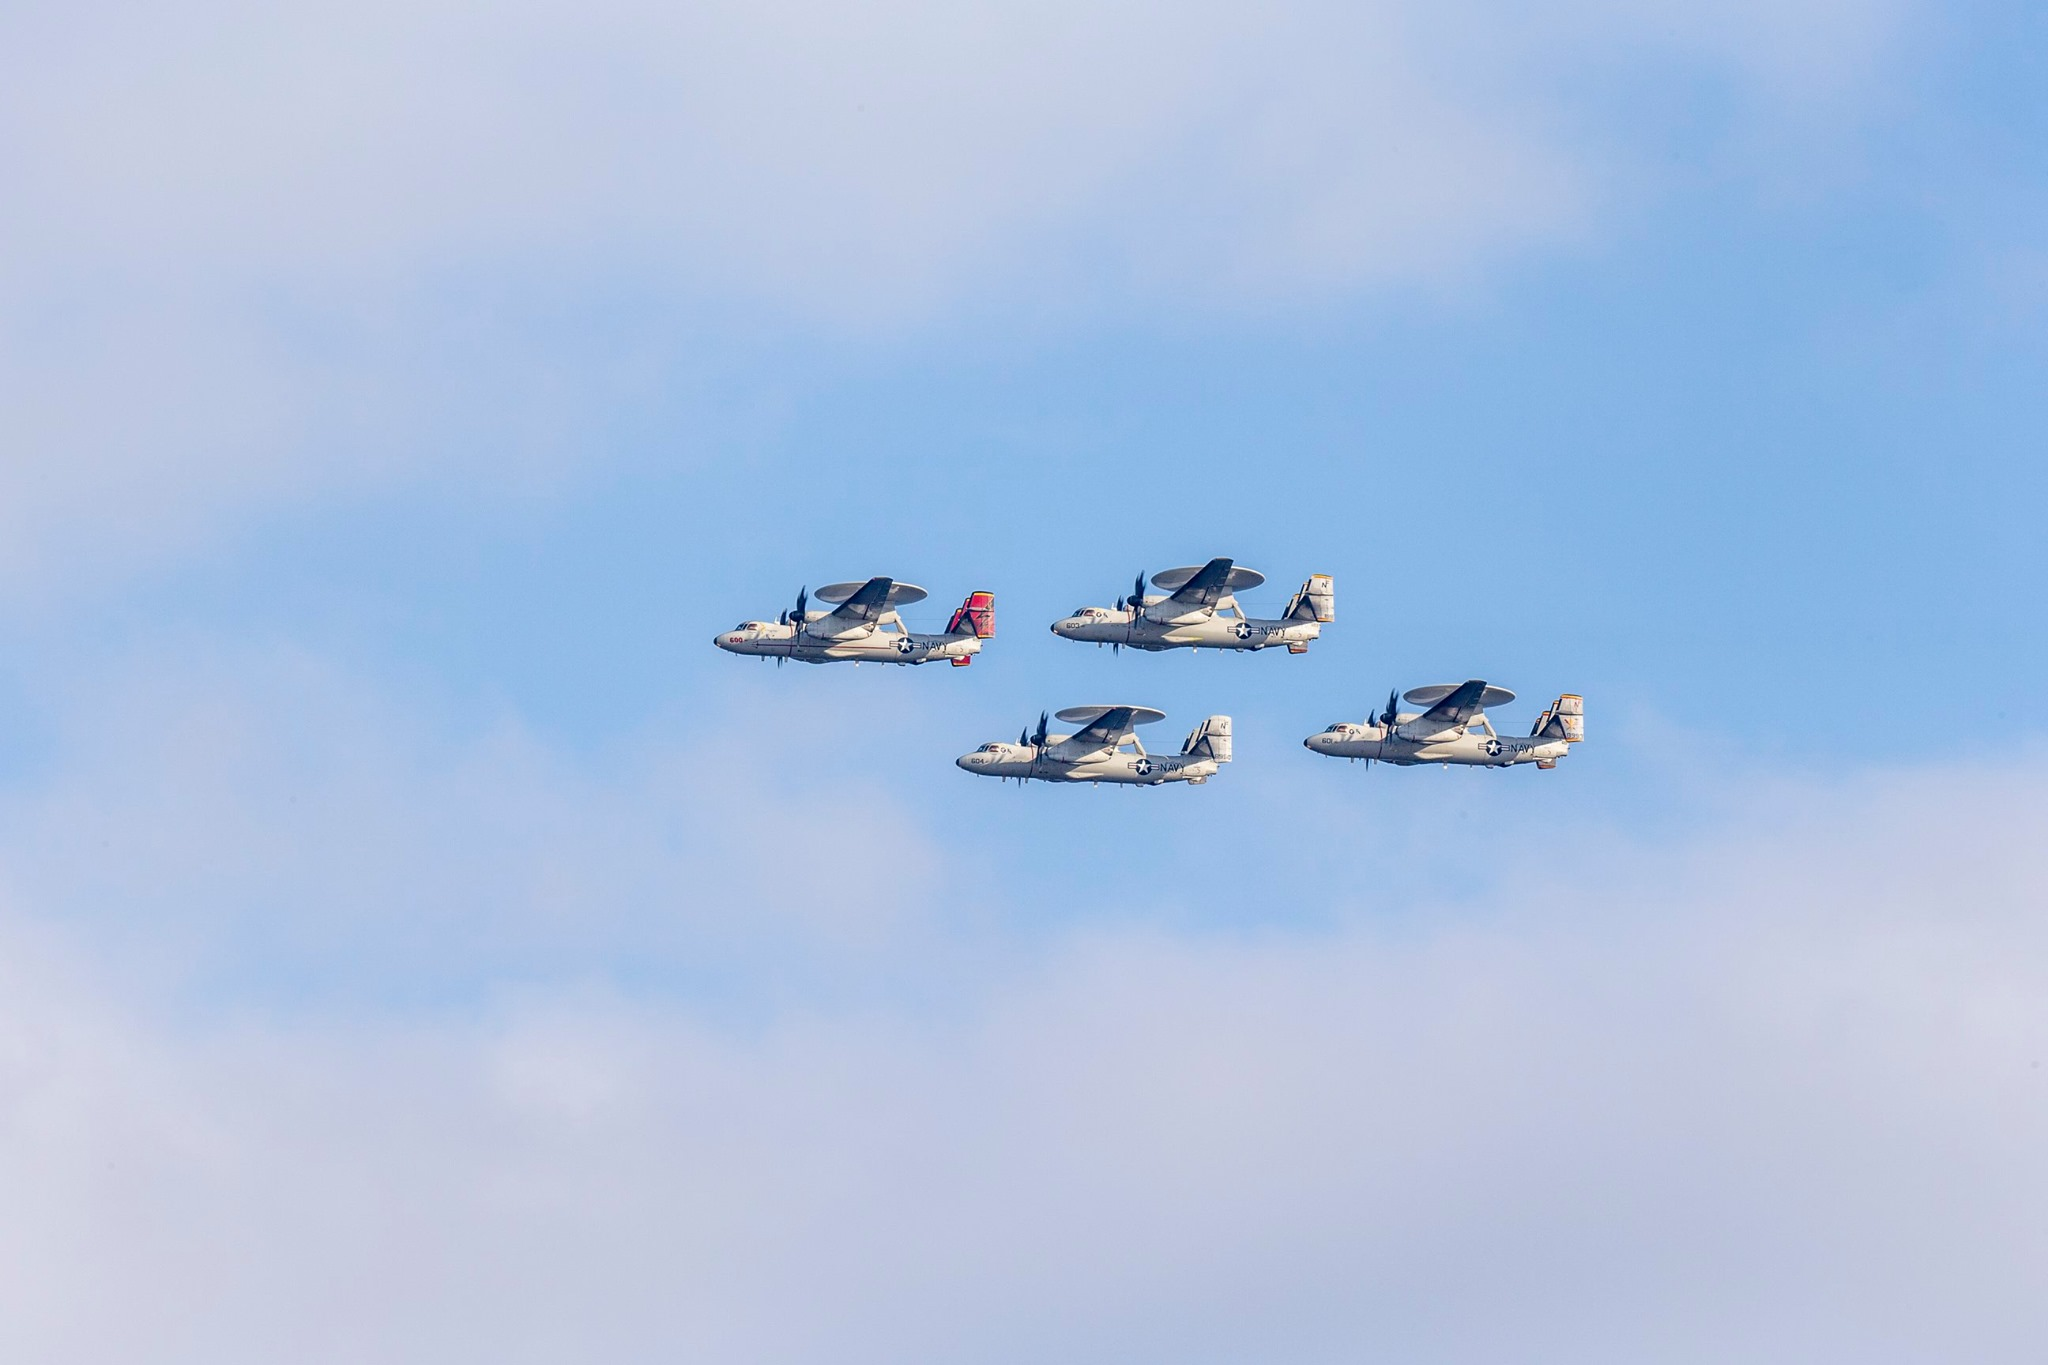E2: (1051, 556, 1335, 658), (713, 576, 996, 670), (1303, 679, 1585, 772), (955, 704, 1233, 789)
